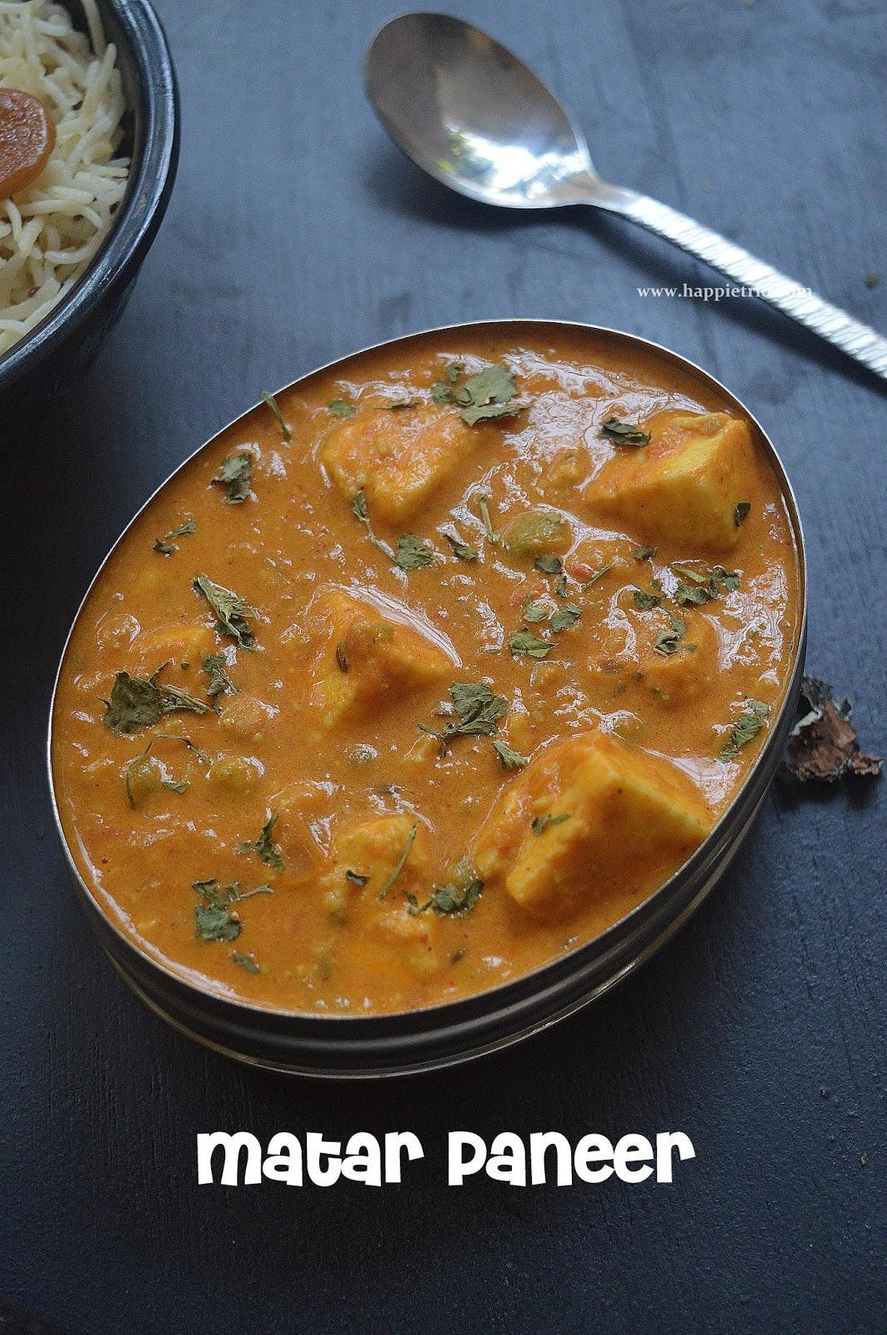paneer: (214, 510, 608, 902)
